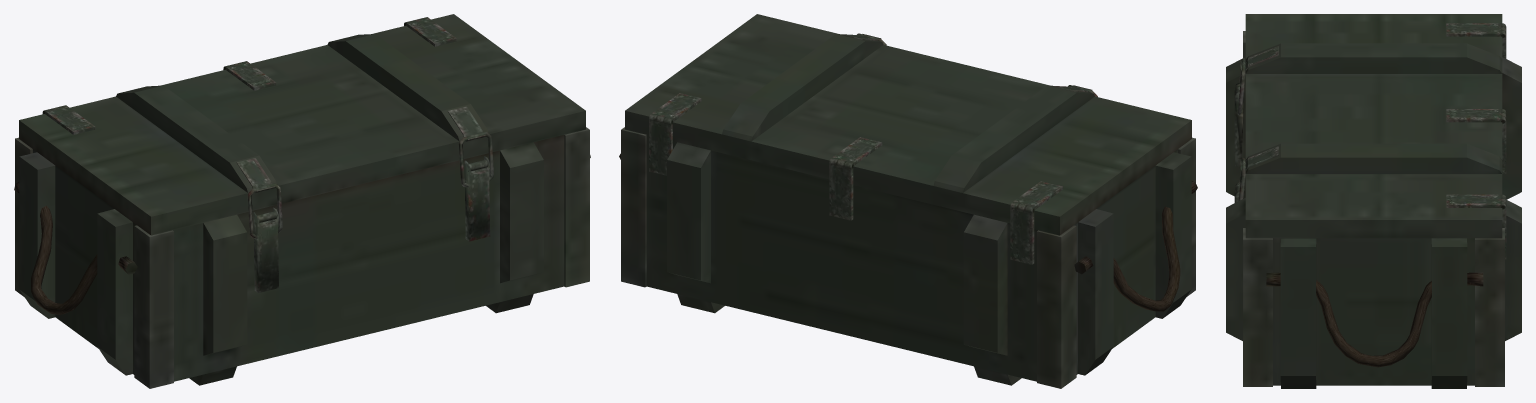
File: p_ammo.glb
The picture shows the model from 3 angles, left to right: view 1: azimuth 30°, elevation 25°; view 2: azimuth 150°, elevation 25°; view 3: azimuth 270°, elevation 25°; orthographic projection. The views are drawn at different scales.
Visible parts, largest first — view 1: Cube; view 2: Cube; view 3: Cube.
Part boxes in pixels (box(x1,y1,x2,y2)): Cube: box(14, 14, 590, 388); Cube: box(619, 14, 1197, 388); Cube: box(1226, 14, 1521, 388).
Bounding box in the file's own units: 112 × 41.01 × 56.16.
1 material, 1 textured.
